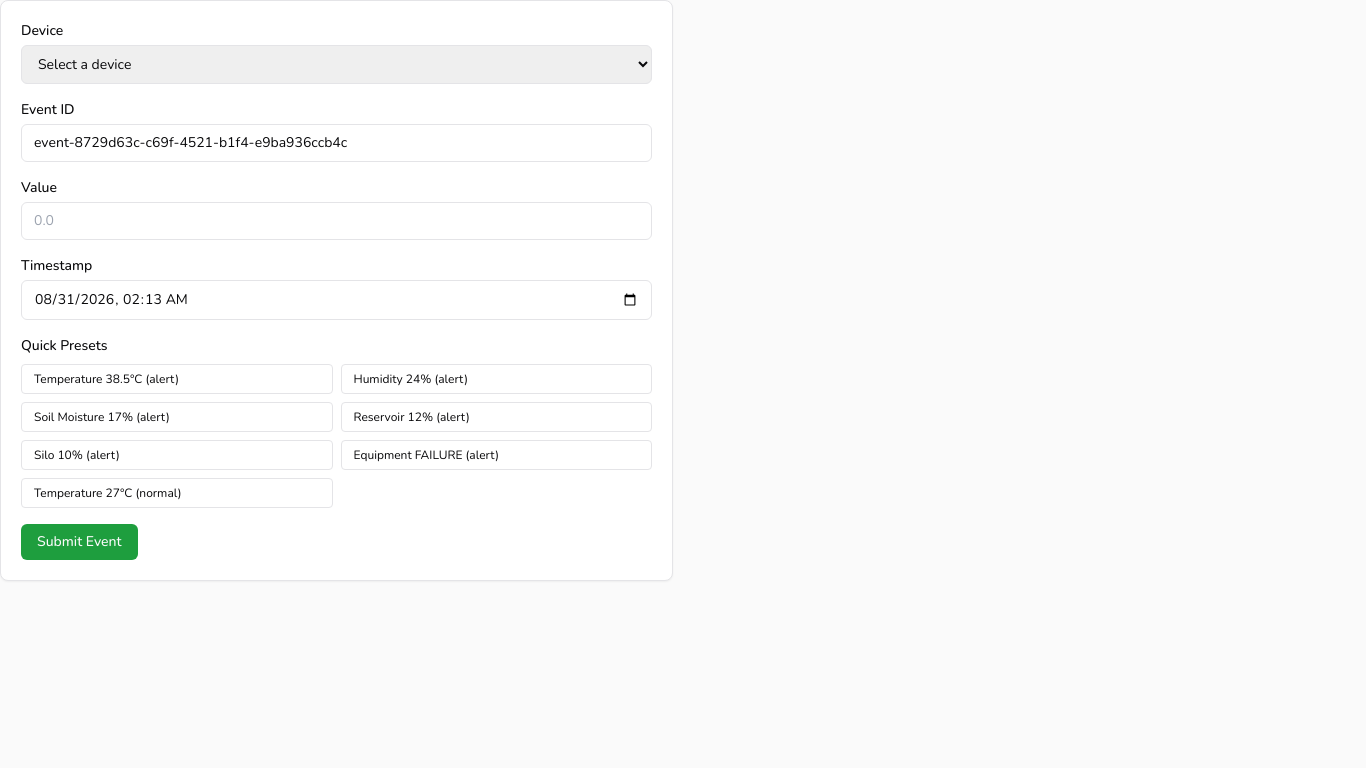
Test case: SimulatorForm › shows server validation errors on 400 response
Select "Temp Sensor (sensor-temp-01)" in the dropdown labelled "Device": (336, 64) [21, 45, 652, 84]
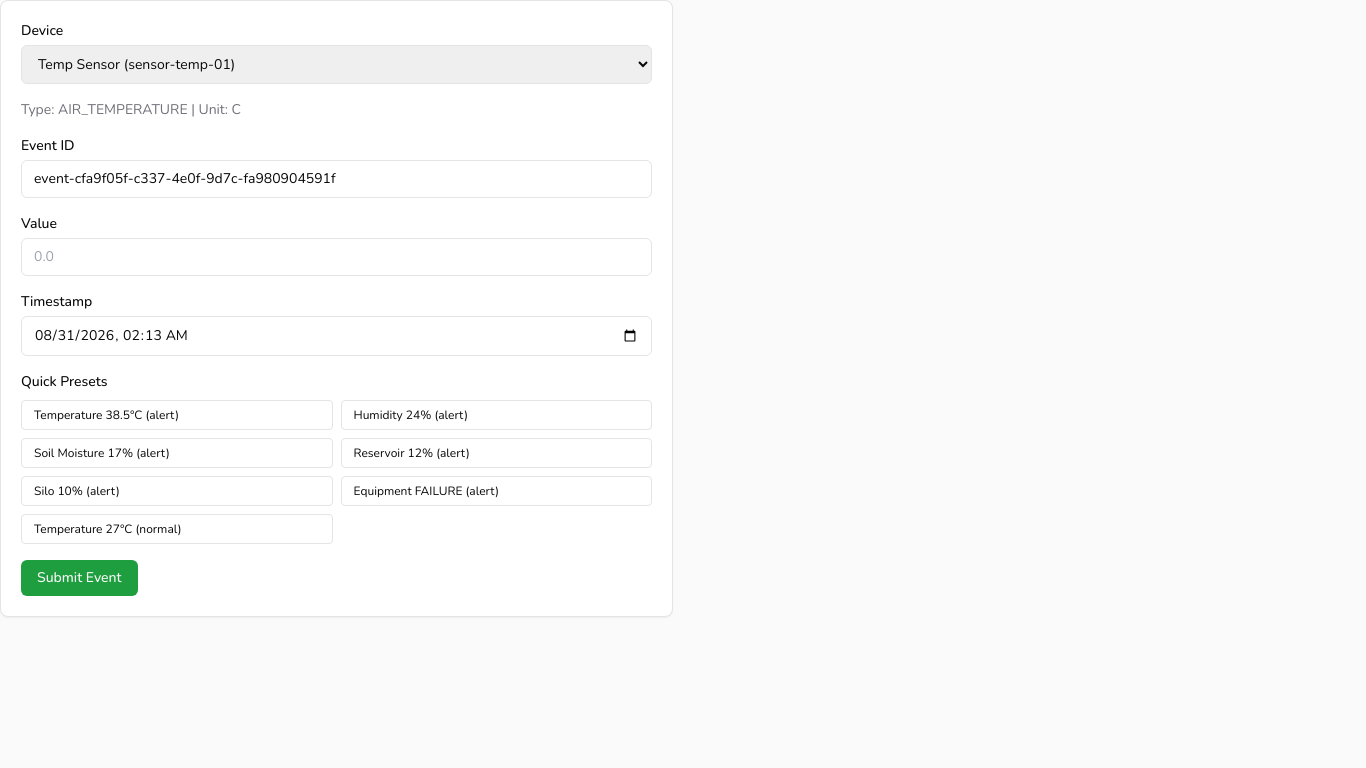
In the number field labelled "Value": (336, 257) [21, 238, 652, 276], type "25"
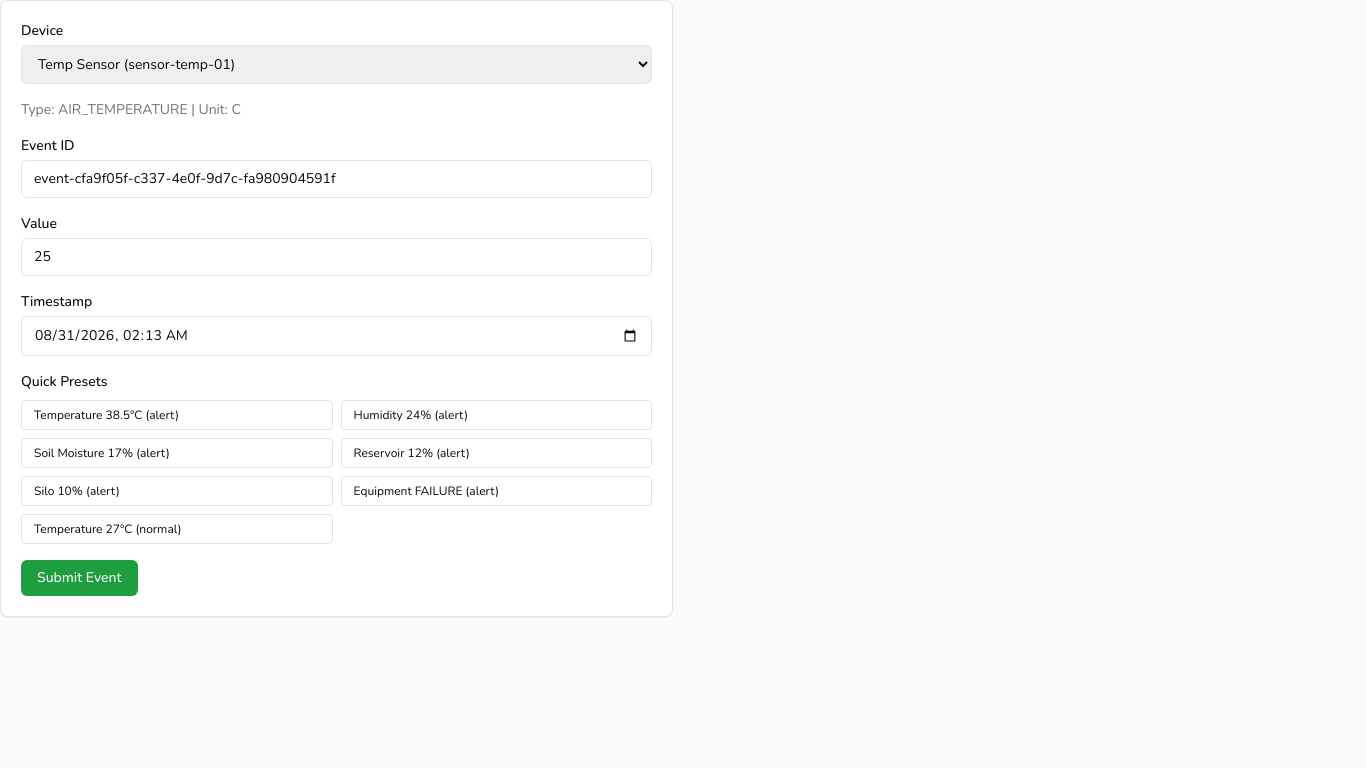
Click the button "Submit Event": (79, 578) [21, 560, 138, 596]
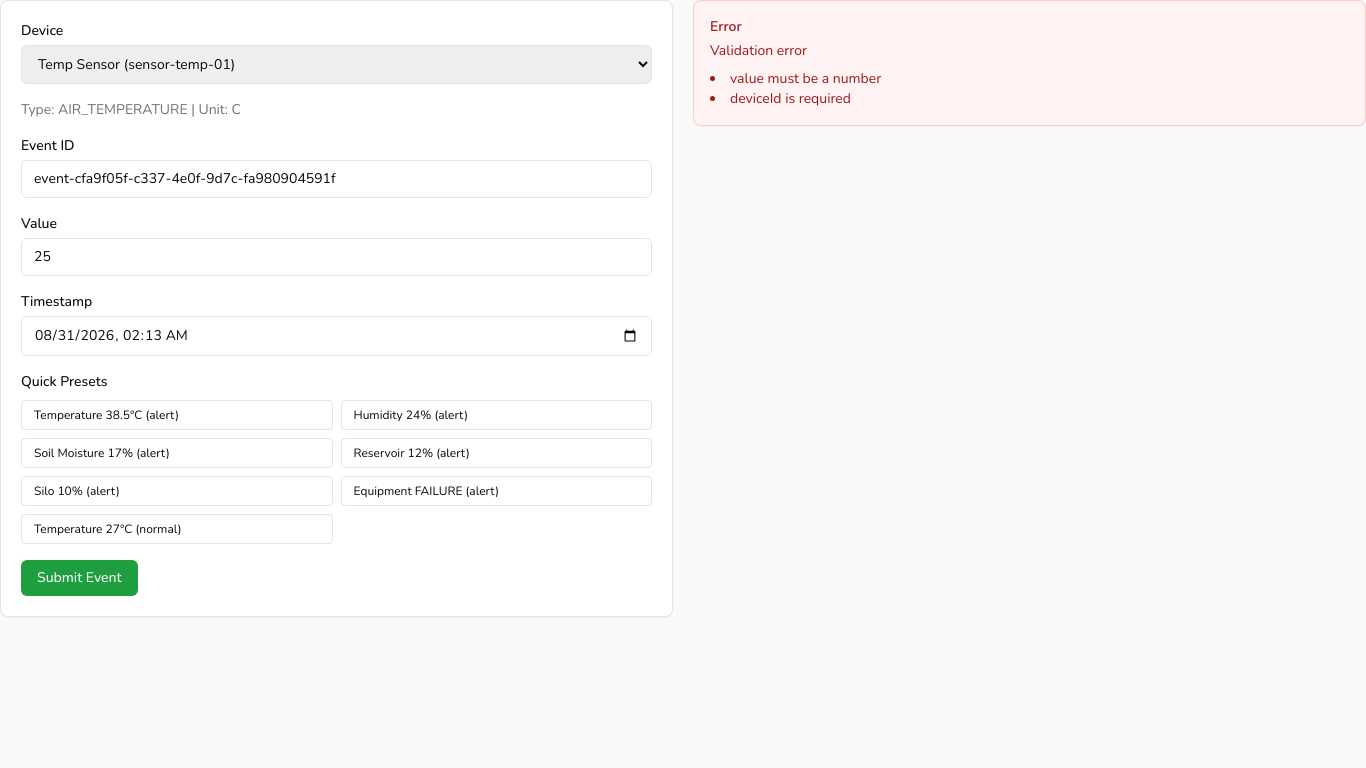
Now the list item "value must be a number" is shown, box [730, 69, 881, 88]
Now the list item "deviceId is required" is shown, box [730, 89, 851, 108]
